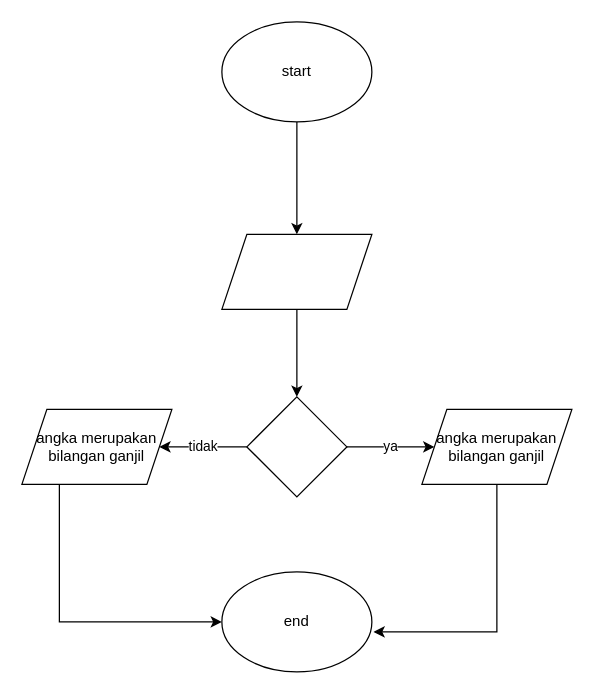
This 594x694 diagram has some shape labels left out. Here are the shapes that lost their labels. From the top down, the box of each, then its label:
(221, 233, 372, 309): masukan sebuah angka
(246, 396, 347, 497): apakah %2 == 0
